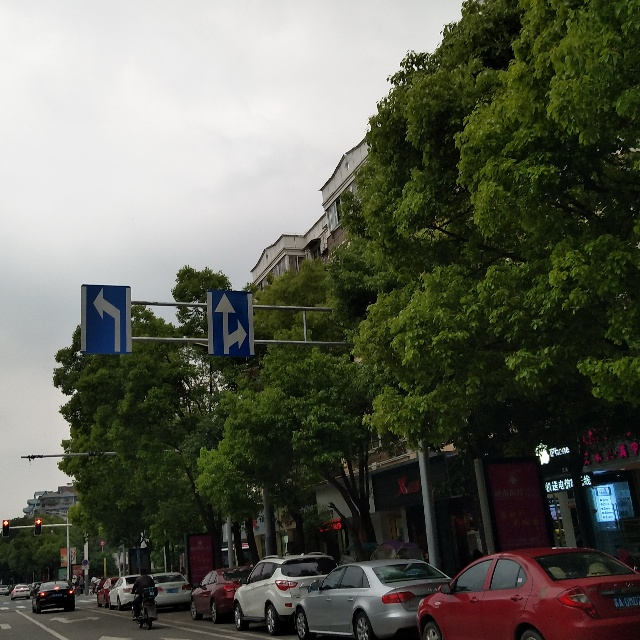left: (81, 283, 132, 354)
